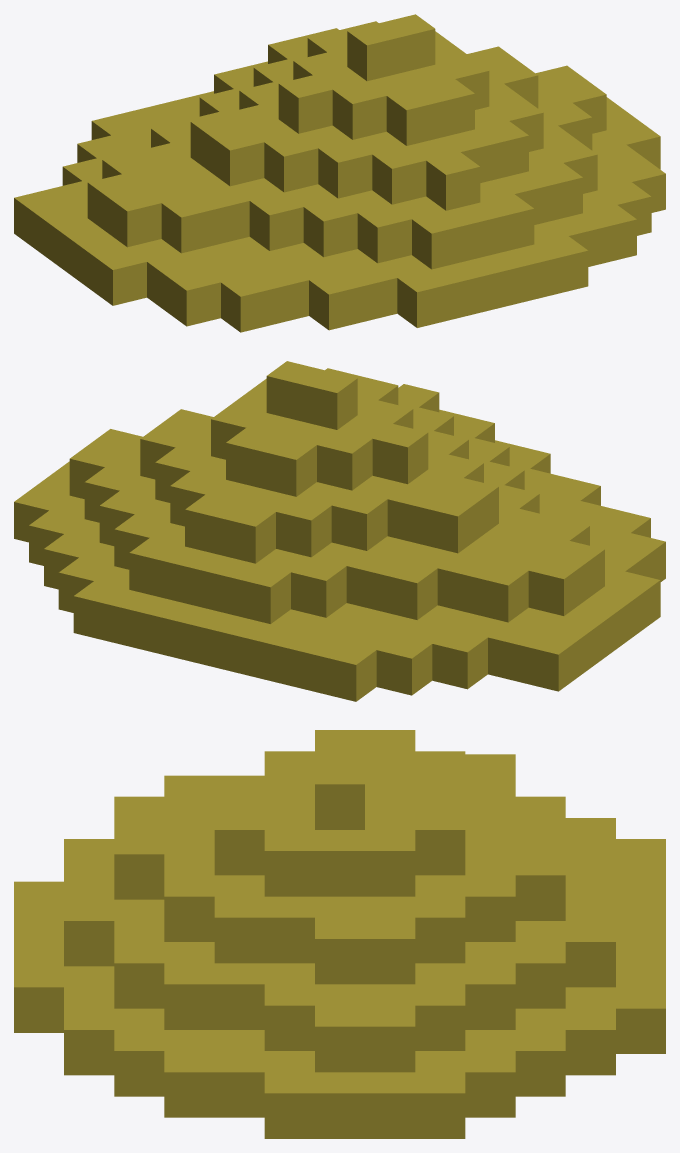
Rendered from dune_1.obj.
3 views of the same model, one above another, from view 1: azimuth 30°, elevation 25°; view 2: azimuth 150°, elevation 25°; view 3: azimuth 270°, elevation 25° (orthographic). The views are drawn at different scales.
Size of the model in its own units: 1.6 by 0.5 by 1.3.
1 material, 1 textured.
